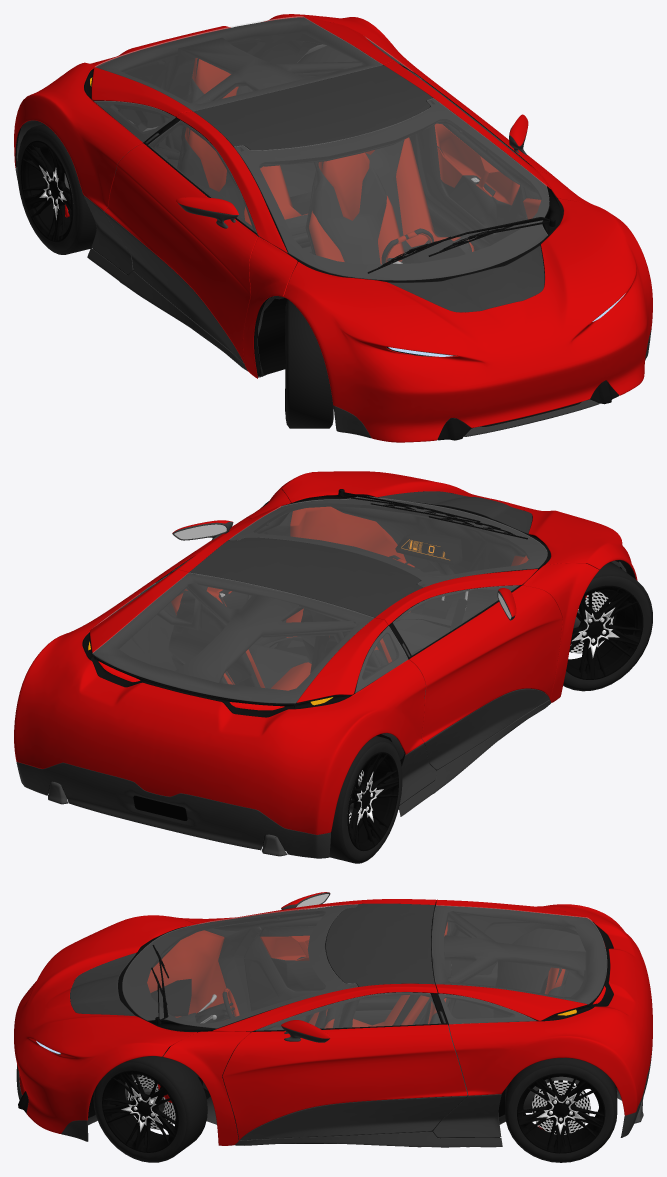
File: type_mid.glb
3 renders of one model, top to bottom at view 1: azimuth 30°, elevation 25°; view 2: azimuth 150°, elevation 25°; view 3: azimuth 270°, elevation 25°, orthographic. The views are drawn at different scales.
Visible parts, largest first — view 1: BodyHood, BodyWindshield, BodyRearwindow, BodyDoorRColor1, BodyRearPanelsColor1, BodyRoofPanel, BodyWindshieldGasket, InteriorSeatsColor1, InteriorSeatsColor2, BodyPillars, InteriorPillar, InteriorRearHatch (+20 smaller); view 2: BodyRearPanelsColor1, BodyRearwindow, BodyWindshield, BodyDoorRColor1, BodyPanelsColor2, BodyRoofPanel, BodyHood, InteriorRearHatch, BodyPillars, InteriorPillar, InteriorDashMid, BodyWindshieldGasket (+22 smaller); view 3: BodyRearPanelsColor1, BodyWindshield, BodyDoorLColor1, BodyHood, BodyRearwindow, BodyRoofPanel, BodyPillars, BodyWindshieldGasket, BodyDoorLColor2, BodyPanelsColor2, WheelFrontL, InteriorRearHatch (+25 smaller).
Boxes of the visible parts, x1=… form: BodyHood: x1=283, y1=198, x2=652, y2=442; BodyWindshield: x1=234, y1=98, x2=549, y2=280; BodyRearwindow: x1=95, y1=16, x2=382, y2=110; BodyDoorRColor1: x1=104, y1=143, x2=257, y2=362; BodyRearPanelsColor1: x1=14, y1=14, x2=428, y2=210; BodyRoofPanel: x1=193, y1=65, x2=432, y2=150; BodyWindshieldGasket: x1=234, y1=99, x2=563, y2=282; InteriorSeatsColor1: x1=185, y1=58, x2=474, y2=264; InteriorSeatsColor2: x1=180, y1=78, x2=471, y2=264; BodyPillars: x1=176, y1=61, x2=598, y2=378; InteriorPillar: x1=158, y1=37, x2=434, y2=169; InteriorRearHatch: x1=93, y1=17, x2=383, y2=118; BodyRearPanelsColor1: x1=14, y1=569, x2=425, y2=834; BodyRearwindow: x1=92, y1=573, x2=373, y2=703; BodyWindshield: x1=229, y1=497, x2=547, y2=587; BodyDoorRColor1: x1=409, y1=585, x2=562, y2=742; BodyPanelsColor2: x1=16, y1=700, x2=550, y2=858; BodyRoofPanel: x1=189, y1=537, x2=422, y2=617; BodyHood: x1=279, y1=471, x2=637, y2=580; InteriorRearHatch: x1=93, y1=573, x2=386, y2=707; BodyPillars: x1=175, y1=489, x2=599, y2=702; InteriorPillar: x1=174, y1=574, x2=417, y2=682; InteriorDashMid: x1=331, y1=502, x2=528, y2=622; BodyWindshieldGasket: x1=230, y1=495, x2=550, y2=587; BodyRearPanelsColor1: x1=436, y1=899, x2=652, y2=1115; BodyWindshield: x1=122, y1=904, x2=357, y2=1028; BodyDoorLColor1: x1=222, y1=1024, x2=467, y2=1140; BodyHood: x1=14, y1=915, x2=196, y2=1133; BodyRearwindow: x1=432, y1=905, x2=606, y2=1003; BodyRoofPanel: x1=326, y1=903, x2=434, y2=986; BodyPillars: x1=163, y1=899, x2=437, y2=1145; BodyWindshieldGasket: x1=118, y1=905, x2=357, y2=1032; BodyDoorLColor2: x1=240, y1=1096, x2=467, y2=1140; BodyPanelsColor2: x1=16, y1=1046, x2=652, y2=1147; WheelFrontL: x1=93, y1=1054, x2=207, y2=1162; InteriorRearHatch: x1=432, y1=905, x2=606, y2=1021.
Size of the model in its own units: 2.54 by 1.15 by 4.36.
Materials: 23 (2 with a texture image).
